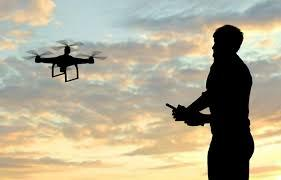drone_other: (25, 40, 107, 82)
